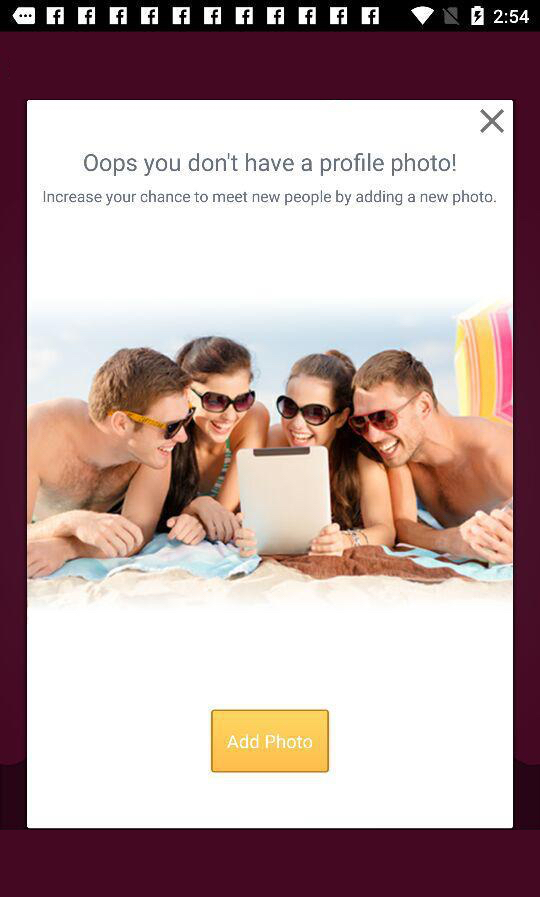Icon: (479, 110, 504, 134)
Image: (28, 290, 513, 618)
Modal: (27, 101, 514, 829)
Text: (85, 154, 457, 177), (44, 190, 497, 207)
TextButton: (212, 710, 330, 773)
UpperTaskBar: (1, 1, 540, 33)
